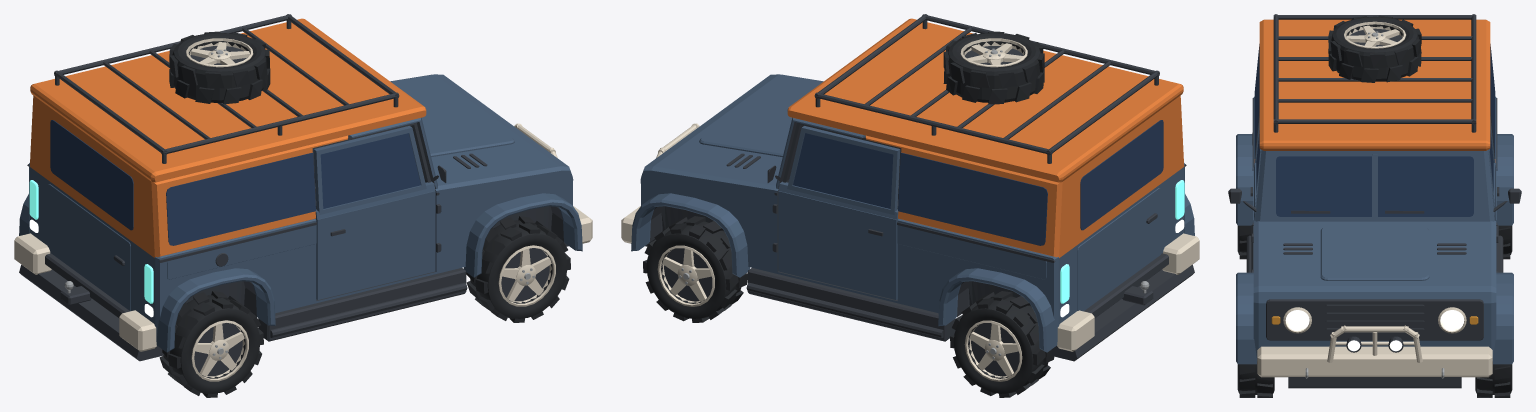
3 renders of one model, left to right at view 1: azimuth 30°, elevation 25°; view 2: azimuth 150°, elevation 25°; view 3: azimuth 270°, elevation 25°, orthographic. The views are drawn at different scales.
Visible parts, largest first — view 1: G25_body, door-right, wheel-front-right, wheel-rear-right; view 2: G25_body, door-left, wheel-front-left, wheel-rear-left; view 3: G25_body, wheel-front-left, wheel-front-right, door-left, door-right, wheel-rear-left, wheel-rear-right.
Part boxes in pixels (bbox=[...]): G25_body: bbox=[14, 14, 592, 361]; door-right: bbox=[312, 122, 435, 299]; wheel-front-right: bbox=[466, 216, 570, 322]; wheel-rear-right: bbox=[159, 291, 263, 397]; G25_body: bbox=[621, 14, 1199, 361]; door-left: bbox=[778, 122, 901, 299]; wheel-front-left: bbox=[643, 216, 747, 322]; wheel-rear-left: bbox=[950, 291, 1054, 397]; G25_body: bbox=[1228, 14, 1521, 388]; wheel-front-left: bbox=[1475, 361, 1512, 397]; wheel-front-right: bbox=[1237, 361, 1274, 397]; door-left: bbox=[1488, 116, 1499, 269]; door-right: bbox=[1250, 116, 1261, 269]; wheel-rear-left: bbox=[1498, 225, 1512, 259]; wheel-rear-right: bbox=[1237, 225, 1251, 259].
Size of the model in its own units: 4.1 by 2.27 by 2.37.
